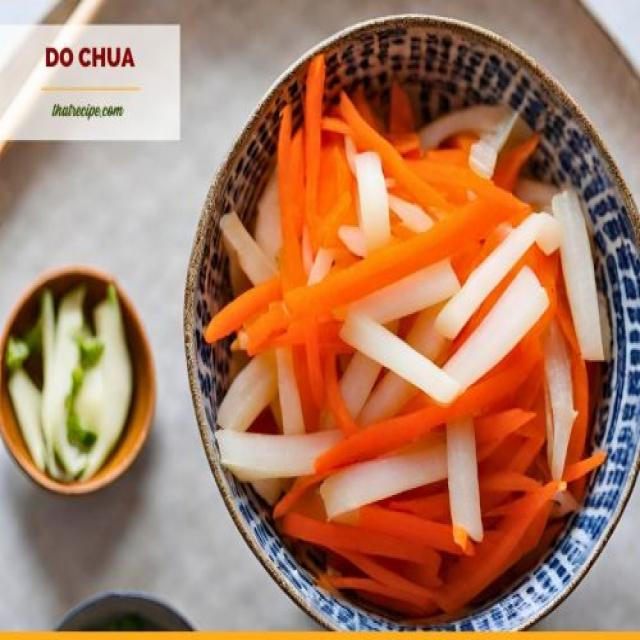do chua: (205, 56, 603, 613)
